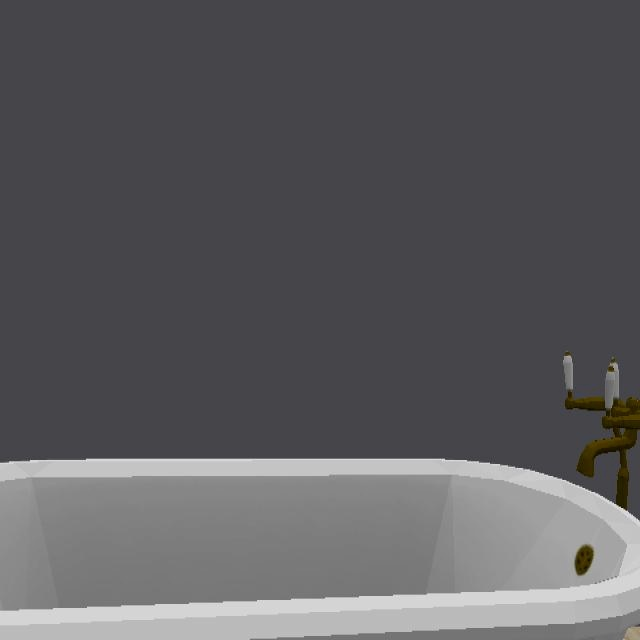bathtube: (0, 460, 640, 638)
